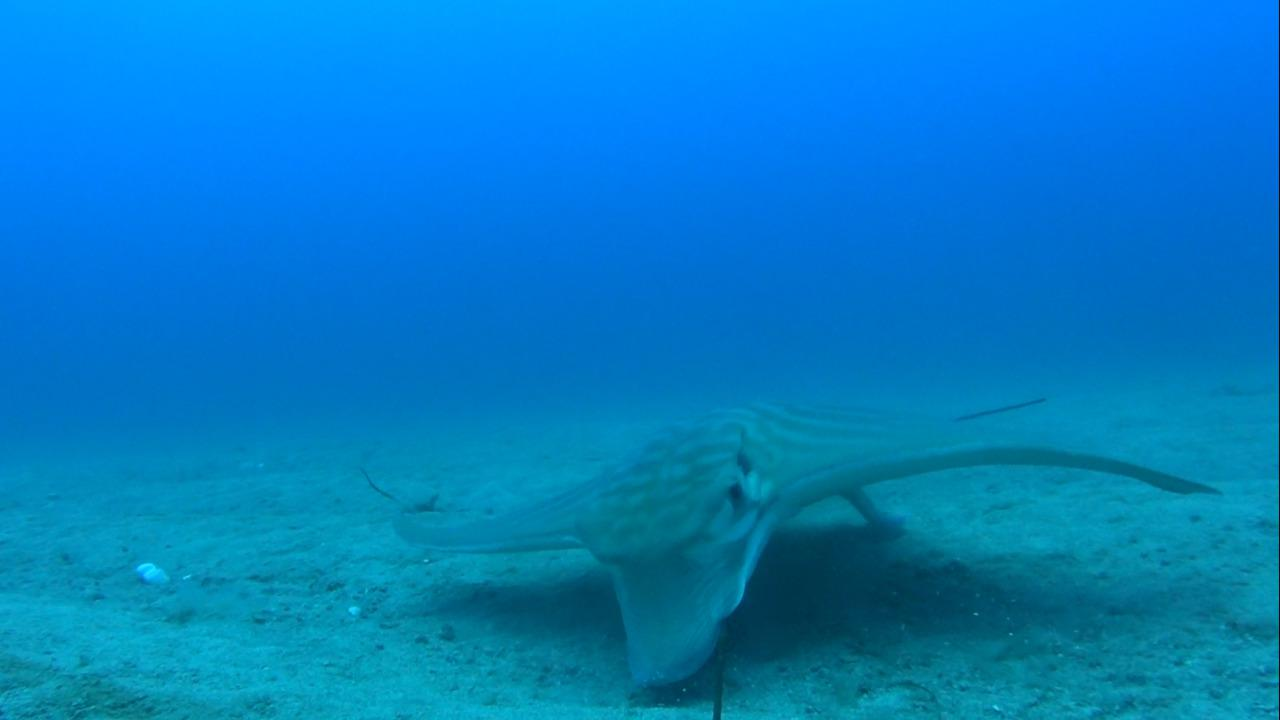myliobatis: (387, 385, 1231, 704)
